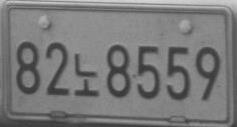2: (44, 40, 69, 95)
5: (165, 45, 190, 100), (136, 45, 161, 99)
8: (15, 40, 41, 95), (106, 43, 131, 98)
9: (194, 46, 220, 101)
노: (73, 52, 99, 95)
